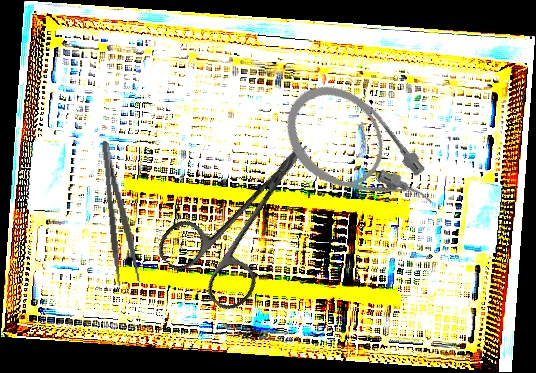Cannula: (265, 65, 453, 247)
Dressing Forceps: (98, 138, 141, 287)
Iris Scissors: (151, 112, 348, 318)
